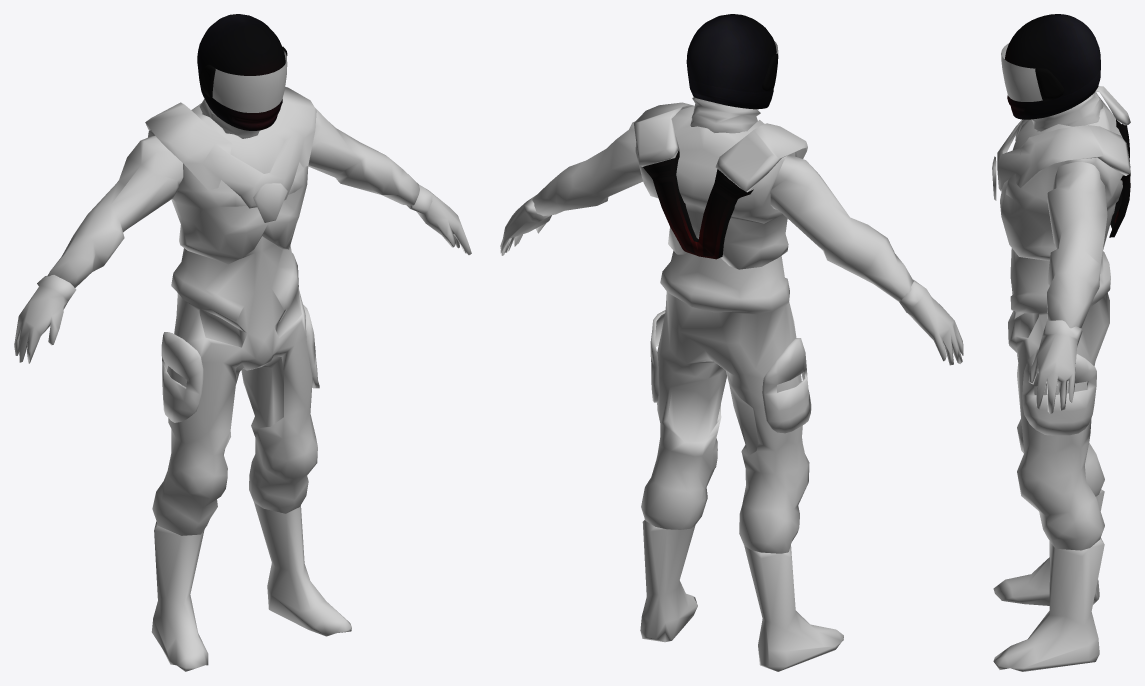
The model's file is cyborg.obj.
3 views of the same model, side by side, from view 1: azimuth 30°, elevation 25°; view 2: azimuth 150°, elevation 25°; view 3: azimuth 270°, elevation 25° (orthographic).
Size of the model in its own units: 2.92 by 3.8 by 0.7817.
